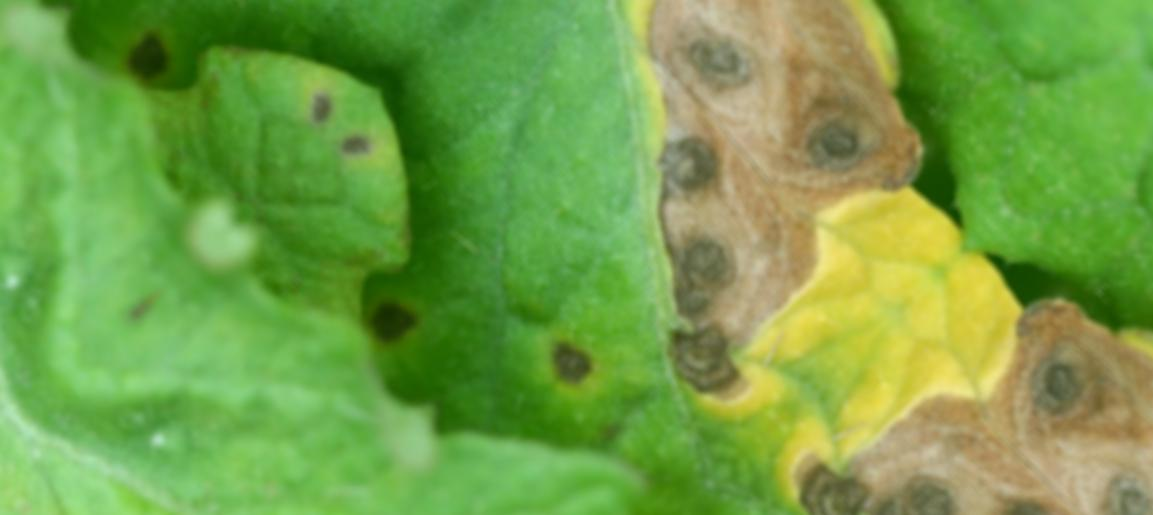Tomato leaf late blight: (190, 0, 1153, 515), (0, 114, 701, 515)
